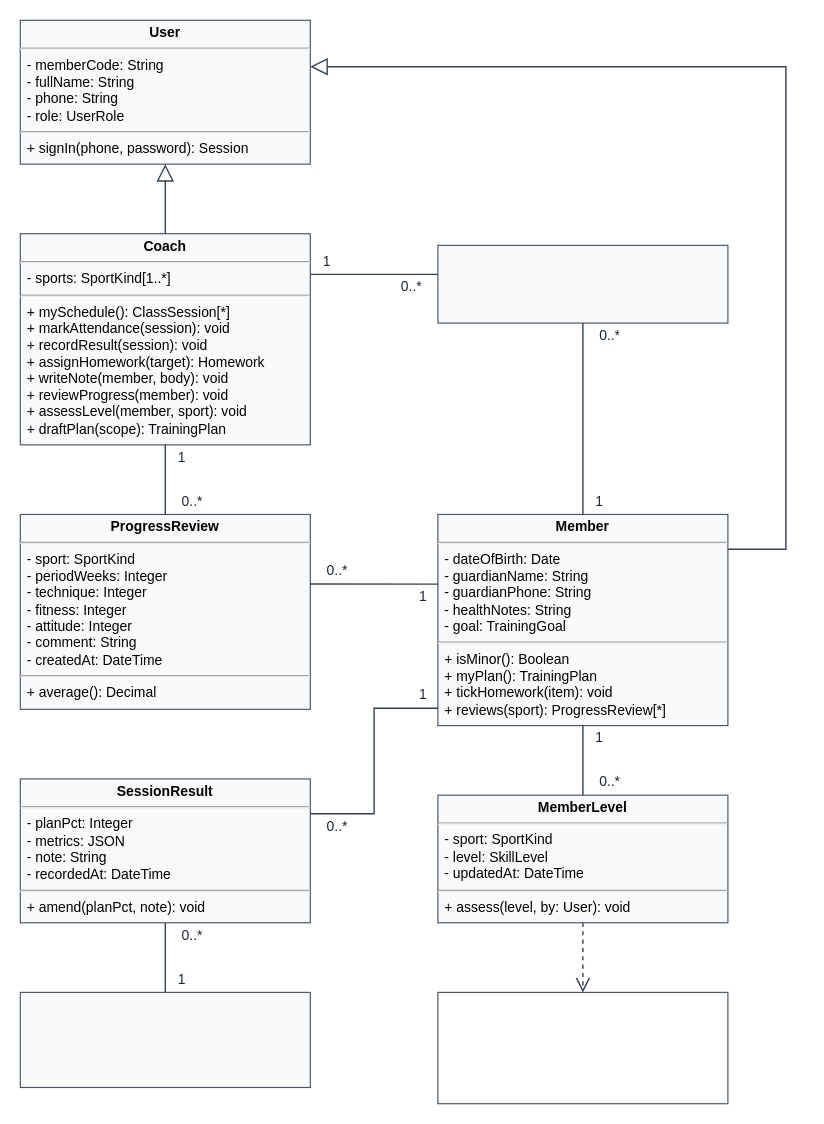
The diagram is 824 pixels wide and 1124 high, and some of its shapes have lost their labels. The centre of each missing label's shape, as x and y in pixels:
"ClassSession - startAt: DateTime - endAt: DateTime - status: SessionStatus" goes at pixel 164 1039.
"CoachNote - body: String - createdAt: DateTime" goes at pixel 582 283.
"«enumeration» SkillLevel beginner intermediate advanced" goes at pixel 582 1047.
